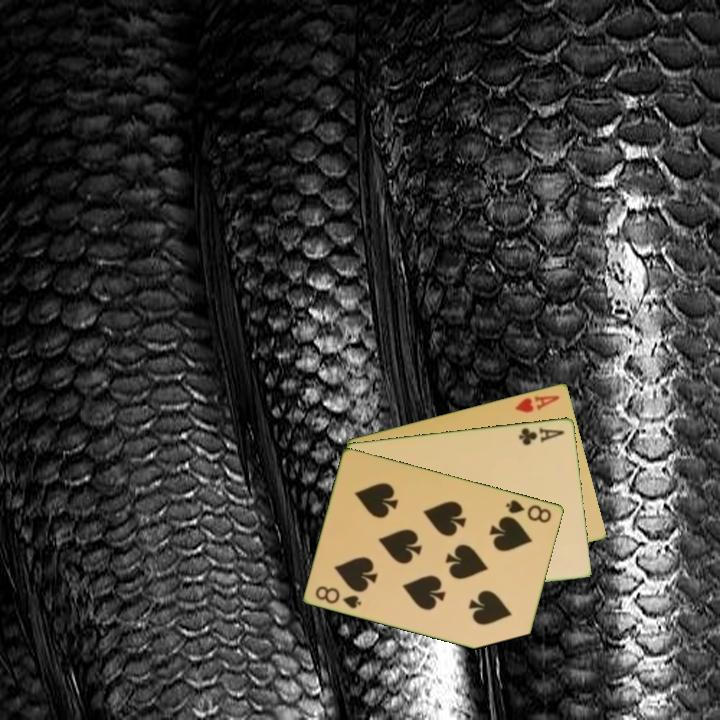8s: (503, 496, 555, 526), (312, 582, 365, 611)
Ac: (516, 424, 567, 448)
Ah: (512, 391, 563, 415)
